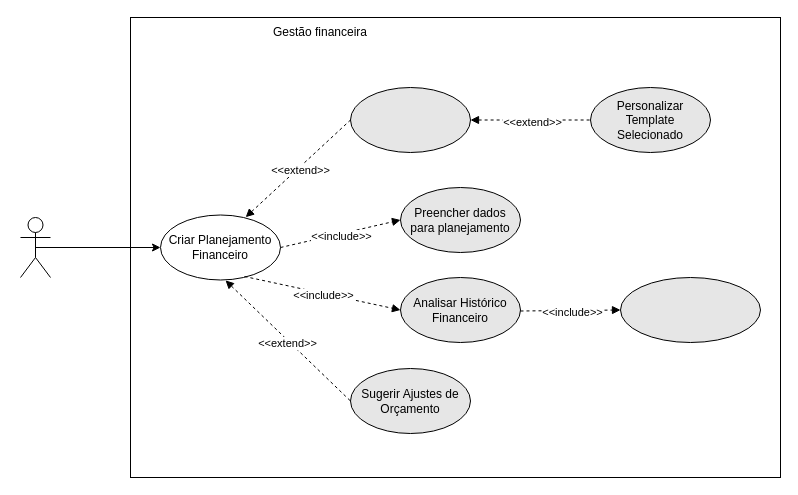
Some shapes in this 798 by 495 pixel diagram are drawn without their labels. Each missing label, with the centre of its shape:
Cliente: point (35, 247)
Escolher modelo de planejamento: point (410, 119)
Receber notificação de situação financeira: point (690, 309)
